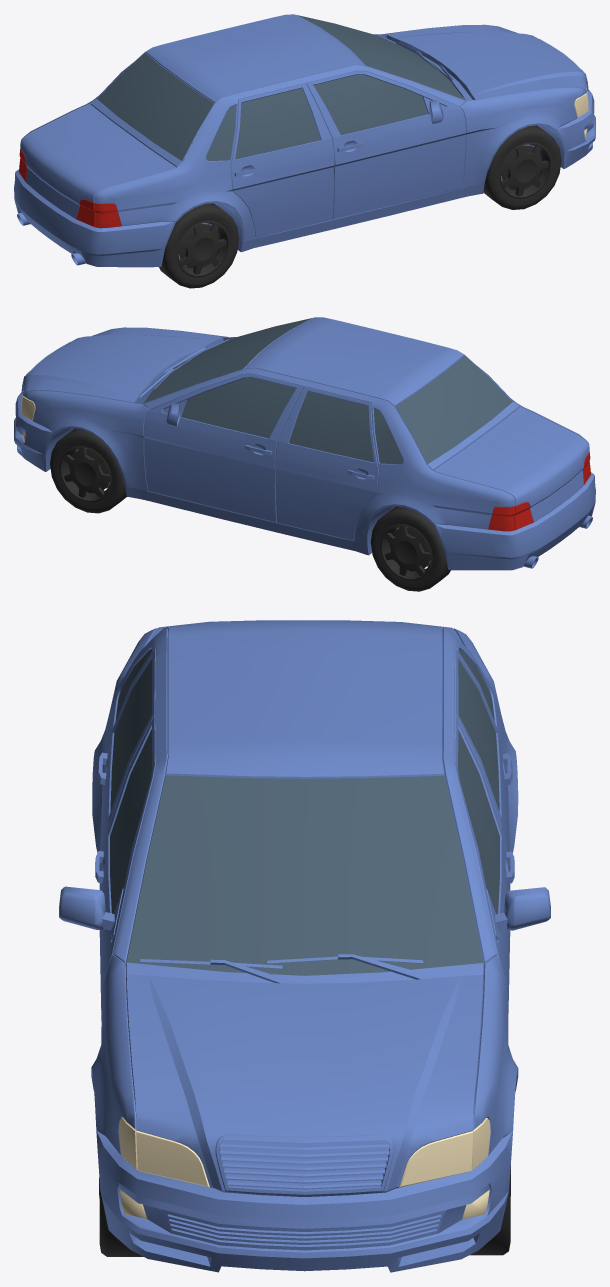
The model's file is traffic-sedan.glb.
3 views of the same model, one above another, from view 1: azimuth 30°, elevation 25°; view 2: azimuth 150°, elevation 25°; view 3: azimuth 270°, elevation 25° (orthographic). The views are drawn at different scales.
Parts seen in each view (by area): view 1: Sedan Body_Body_0, Sedan Body_Glass_0, Wheel_A003_Wheel_0, Wheel_A002_Wheel_0, Sedan Body_Optics_0; view 2: Sedan Body_Body_0, Sedan Body_Glass_0, Wheel_A001_Wheel_0, Wheel_A_Wheel_0, Sedan Body_Optics_0; view 3: Sedan Body_Body_0, Sedan Body_Glass_0, Sedan Body_Optics_0, Wheel_A_Wheel_0, Wheel_A002_Wheel_0.
Part boxes in pixels (x1,y1,x2,y2): Sedan Body_Body_0: (14,14,595,267); Sedan Body_Glass_0: (97,15,466,160); Wheel_A003_Wheel_0: (159,203,238,288); Wheel_A002_Wheel_0: (483,125,561,209); Sedan Body_Optics_0: (19,85,588,228); Sedan Body_Body_0: (14,317,595,570); Sedan Body_Glass_0: (143,318,512,464); Wheel_A001_Wheel_0: (370,506,450,591); Wheel_A_Wheel_0: (50,428,126,513); Sedan Body_Optics_0: (21,390,590,531); Sedan Body_Body_0: (59,620,550,1272); Sedan Body_Glass_0: (110,649,499,975); Sedan Body_Optics_0: (119,1117,490,1219); Wheel_A_Wheel_0: (470,1165,510,1255); Wheel_A002_Wheel_0: (99,1178,143,1256).
Size of the model in its own units: 4.65 by 1.45 by 1.85.
